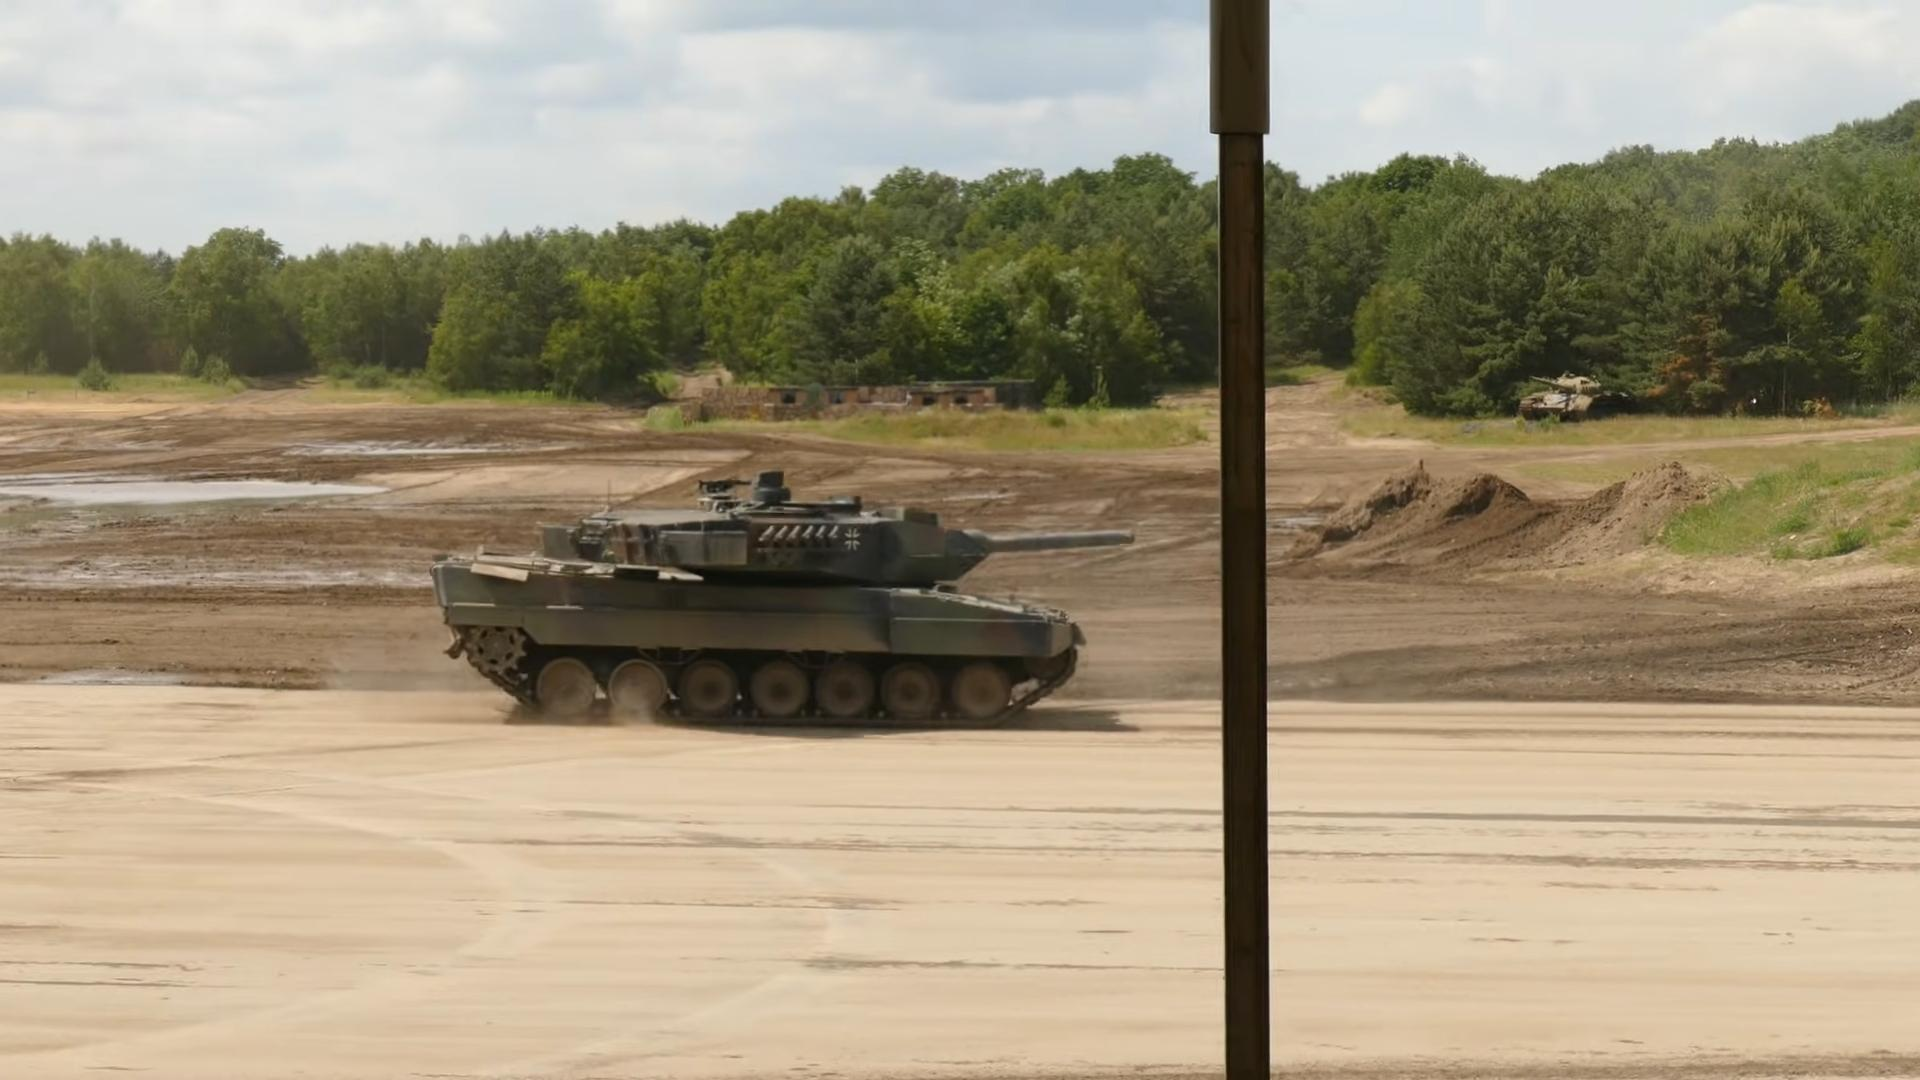tank: (427, 468, 1133, 728), (1520, 371, 1635, 421)
